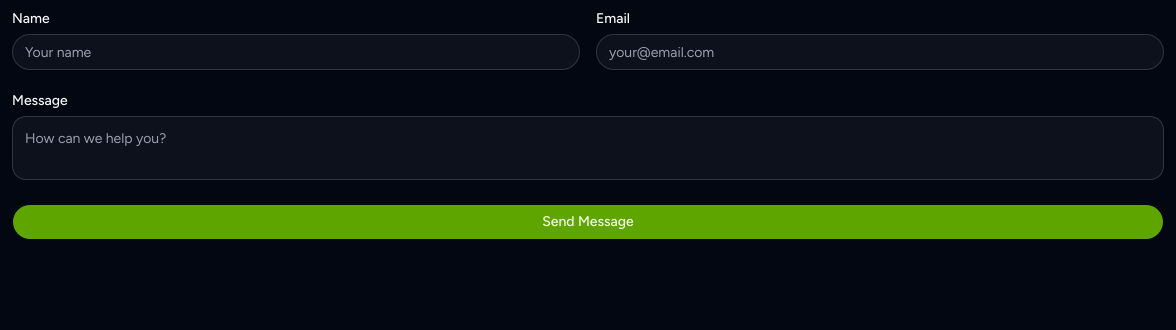
Test: ContactForm › shows rate limit error when API returns 429
Type "John Doe" into the field labelled "Name" at (296, 52), box [12, 34, 580, 70]
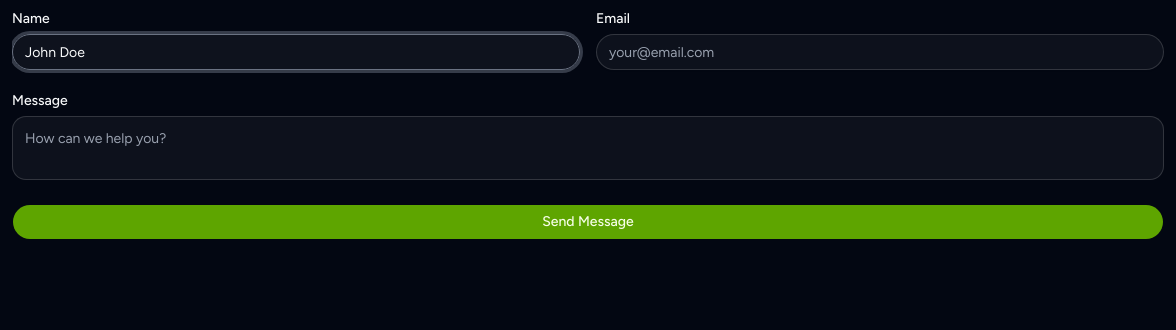
Type "john@example.com" into the field labelled "Email" at (880, 52), box [596, 34, 1164, 70]
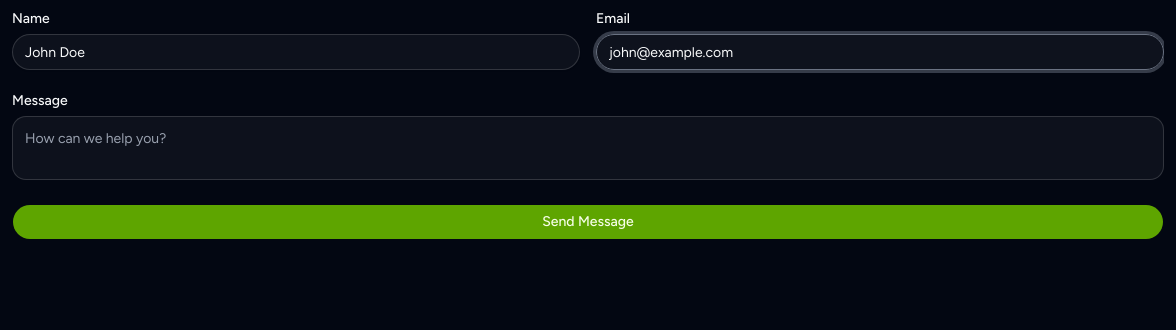
Type "This is a valid message with enough content." into the text box labelled "Message" at (588, 148), box [12, 116, 1164, 180]
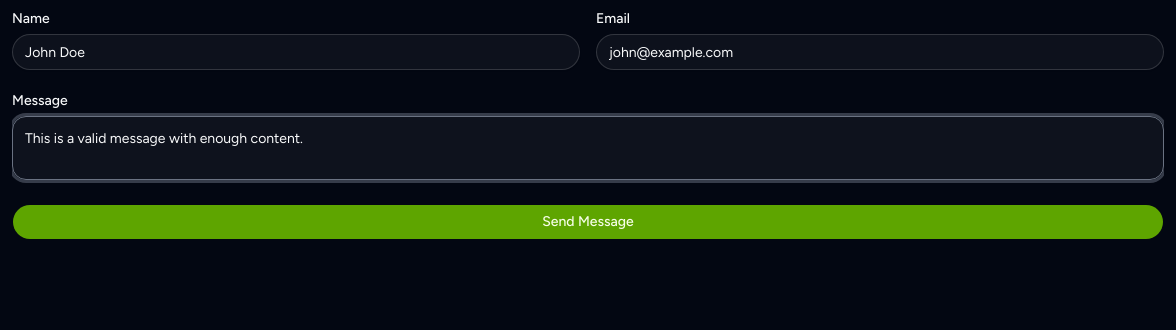
Click the button "Send Message" at (588, 222), box [12, 204, 1164, 240]
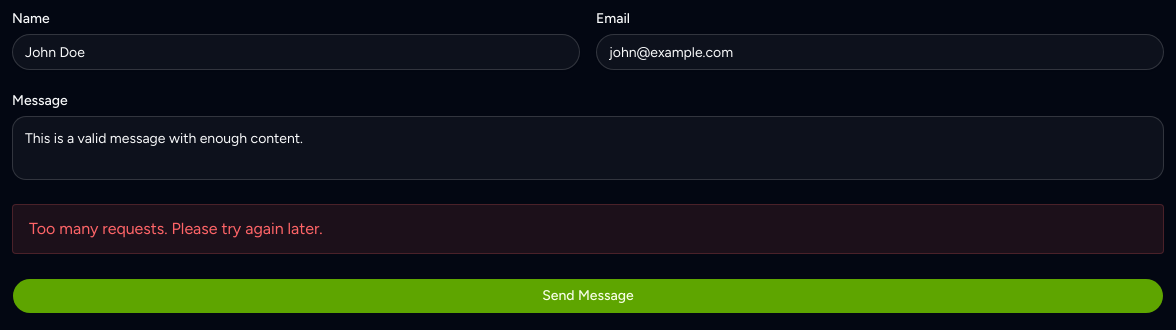
Now the text "Too many requests. Please try again later." is shown, box [12, 204, 1164, 254]
